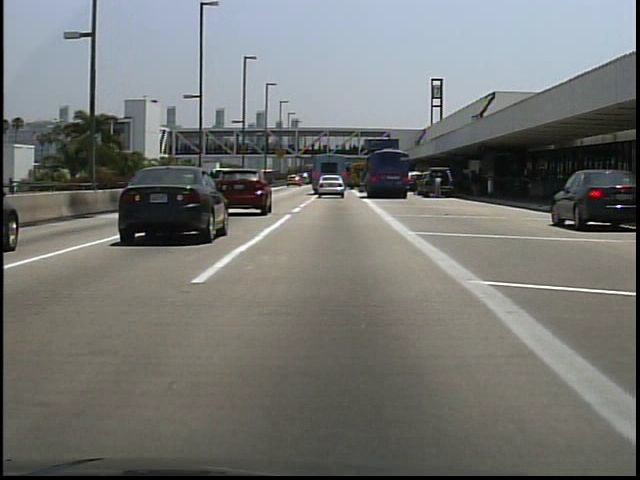person: (465, 166, 481, 202), (433, 173, 446, 202)
